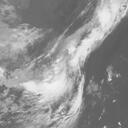cyclone: (32, 52, 83, 101)
